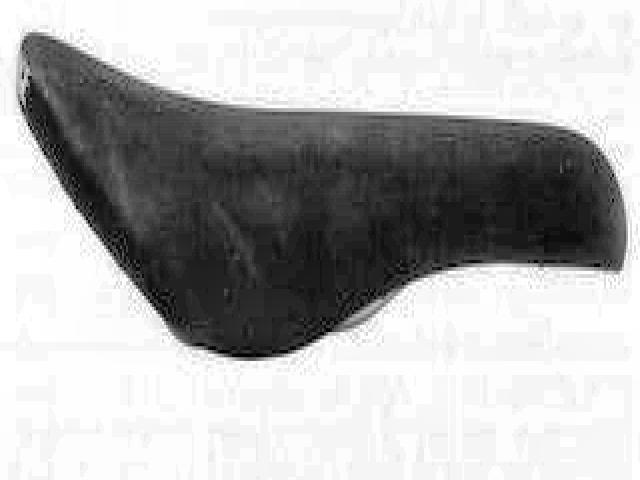saddle: (15, 26, 630, 369)
